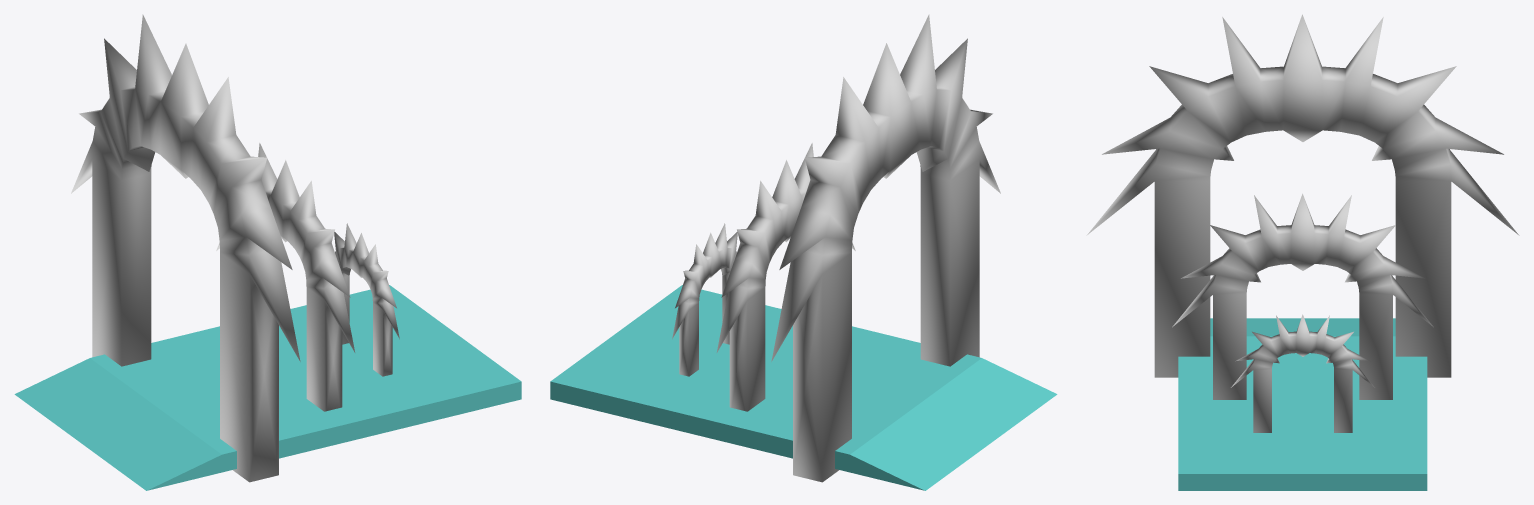
The model's file is PortalFrame.fbx.
3 views of the same model, side by side, from view 1: azimuth 30°, elevation 25°; view 2: azimuth 150°, elevation 25°; view 3: azimuth 270°, elevation 25° (orthographic). The views are drawn at different scales.
Parts seen in each view (by area): view 1: Sphere; view 2: Sphere; view 3: Sphere.
Part boxes in pixels (x1,y1,x2,y2): Sphere: (14, 14, 521, 490); Sphere: (550, 14, 1057, 490); Sphere: (1086, 14, 1519, 490).
Bounding box in the file's own units: 4391 × 4233 × 4662.
